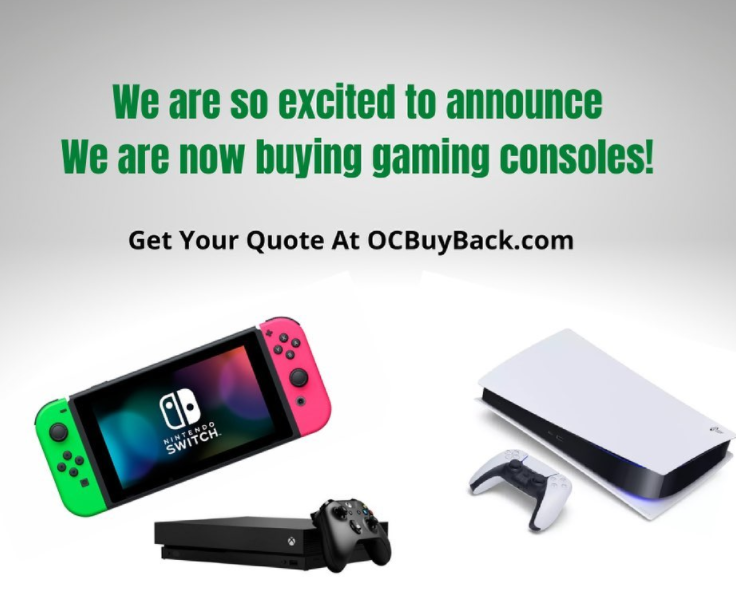gamingconsole: (465, 447, 574, 532)
